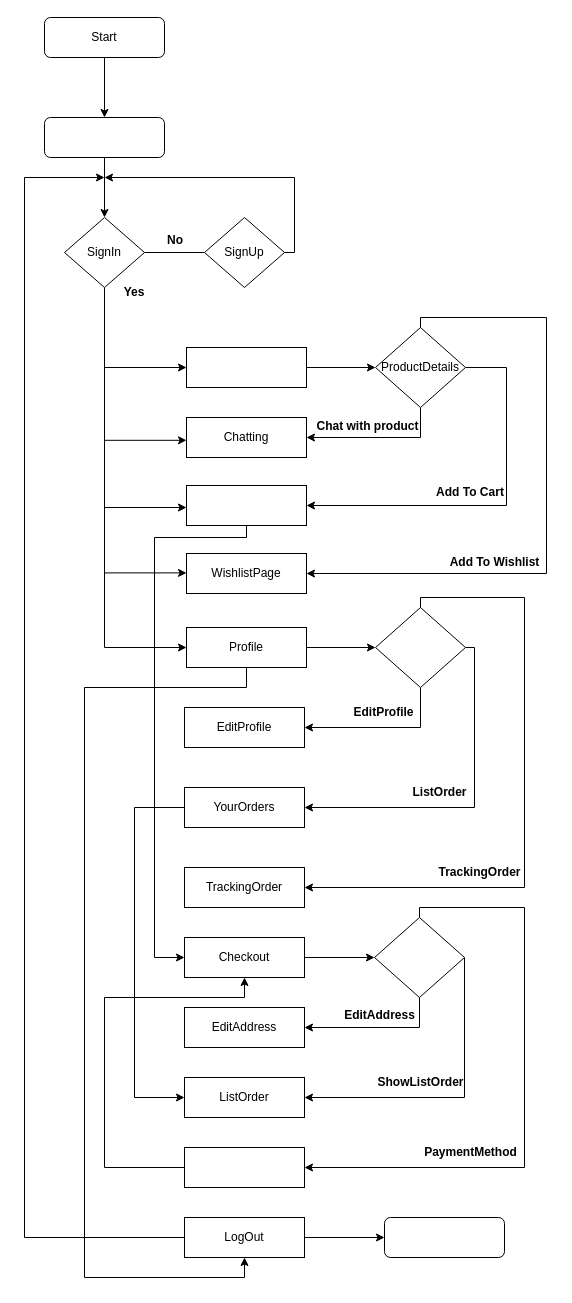
This 572x1303 diagram has some shape labels left out. Here are the shapes that lost their labels. From the top down, the centre of each, then its label:
At (x=104, y=137): "Customer".
At (x=246, y=367): "ViewProduct".
At (x=246, y=505): "Cart".
At (x=420, y=647): "ProfilePage".
At (x=419, y=957): "CheckoutPage".
At (x=244, y=1167): "Payment".
At (x=444, y=1237): "Stop".
